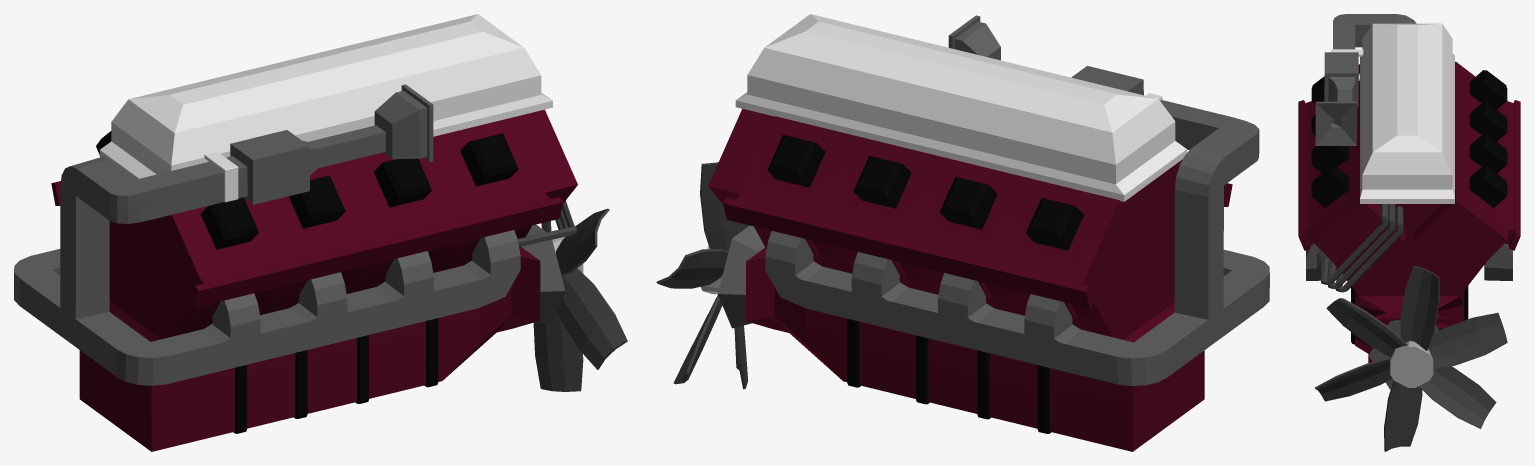
The model's file is MOTOR4.fbx.
The picture shows the model from 3 angles, left to right: view 1: azimuth 30°, elevation 25°; view 2: azimuth 150°, elevation 25°; view 3: azimuth 270°, elevation 25°; orthographic projection. The views are drawn at different scales.
Visible parts, largest first — view 1: Cube, Cube.002, Cube.008, Plane, Cube.004, Cube.005, Cube.007, Cylinder, Cube.009, Cube.003; view 2: Cube, Cube.008, Cube.002, Plane, Cube.007, Cube.004, Cylinder, Cube.005; view 3: Cube, Cube.008, Plane, Cube.003, Cube.005, Cube.002, Cube.004, Cylinder, Cube.007.
Part boxes in pixels (<box>): Cube: <box>51,109,577,451</box>; Cube.002: <box>14,156,520,385</box>; Cube.008: <box>99,14,552,179</box>; Plane: <box>533,208,627,391</box>; Cube.004: <box>137,130,309,219</box>; Cube.005: <box>302,84,433,174</box>; Cube.007: <box>233,318,438,433</box>; Cylinder: <box>521,224,565,325</box>; Cube.009: <box>204,151,238,202</box>; Cube.003: <box>517,200,576,246</box>; Cube: <box>708,108,1232,451</box>; Cube.008: <box>735,14,1186,201</box>; Cube.002: <box>765,117,1269,385</box>; Plane: <box>656,162,749,389</box>; Cube.007: <box>847,318,1051,433</box>; Cube.004: <box>1071,66,1233,149</box>; Cylinder: <box>717,225,765,328</box>; Cube.005: <box>948,15,1000,60</box>; Cube: <box>1298,61,1520,362</box>; Cube.008: <box>1360,23,1454,203</box>; Plane: <box>1315,266,1507,451</box>; Cube.003: <box>1317,204,1403,292</box>; Cube.005: <box>1315,77,1357,145</box>; Cube.002: <box>1306,14,1512,280</box>; Cube.004: <box>1324,25,1358,106</box>; Cylinder: <box>1368,320,1438,389</box>; Cube.007: <box>1351,286,1468,344</box>.
Bounding box in the file's own units: 307 × 222 × 156.
